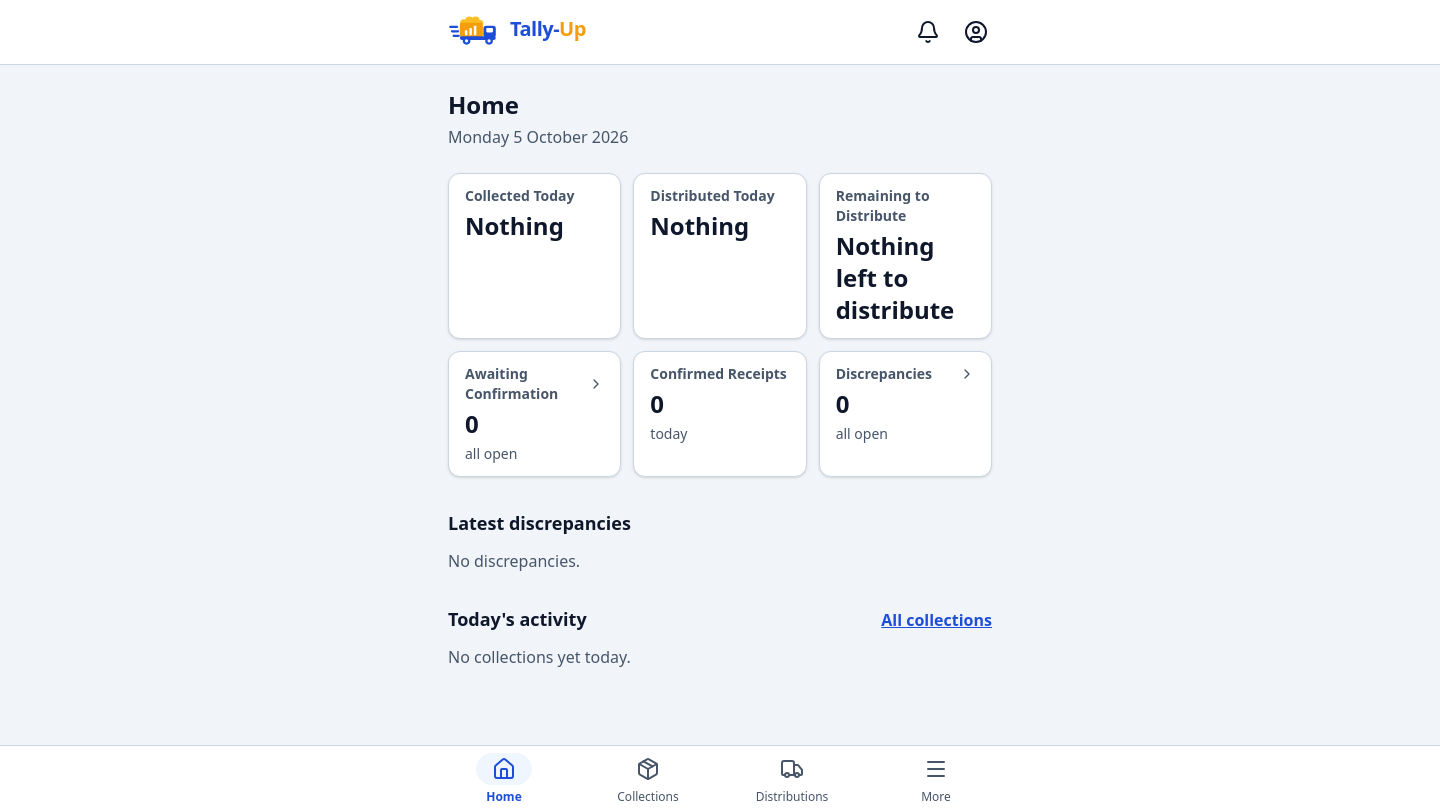
it: Admin portal (Q-47) › has the bell and an account menu with Profile / My Account and Sign Out
The width and height of the screenshot is (1440, 810).
Click the button named "Account": (976, 32) 952,8 -> 1000,56
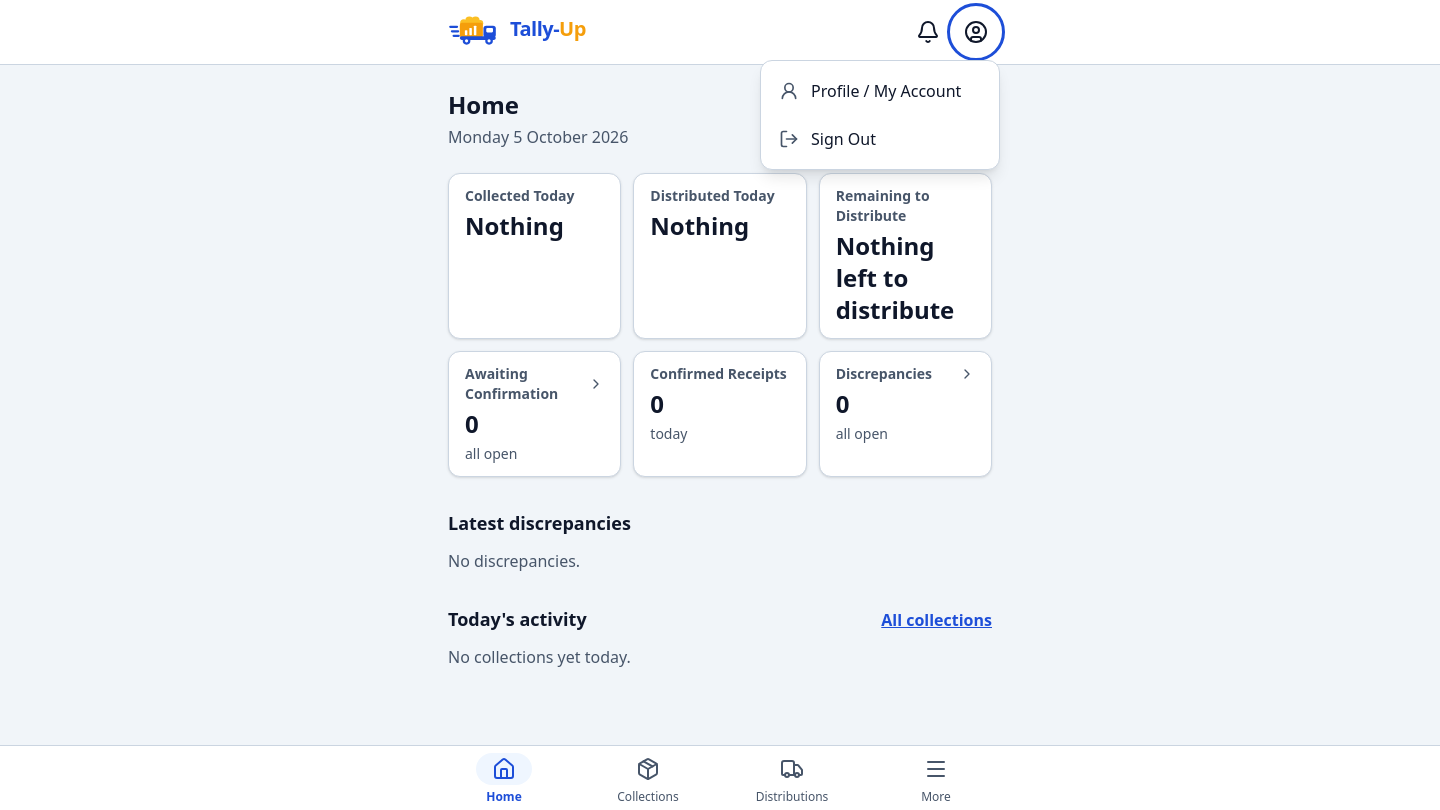
Check: the button named "Account" is expanded, box 952,8 -> 1000,56
Click the button "Sign Out": (880, 139) 767,115 -> 993,163
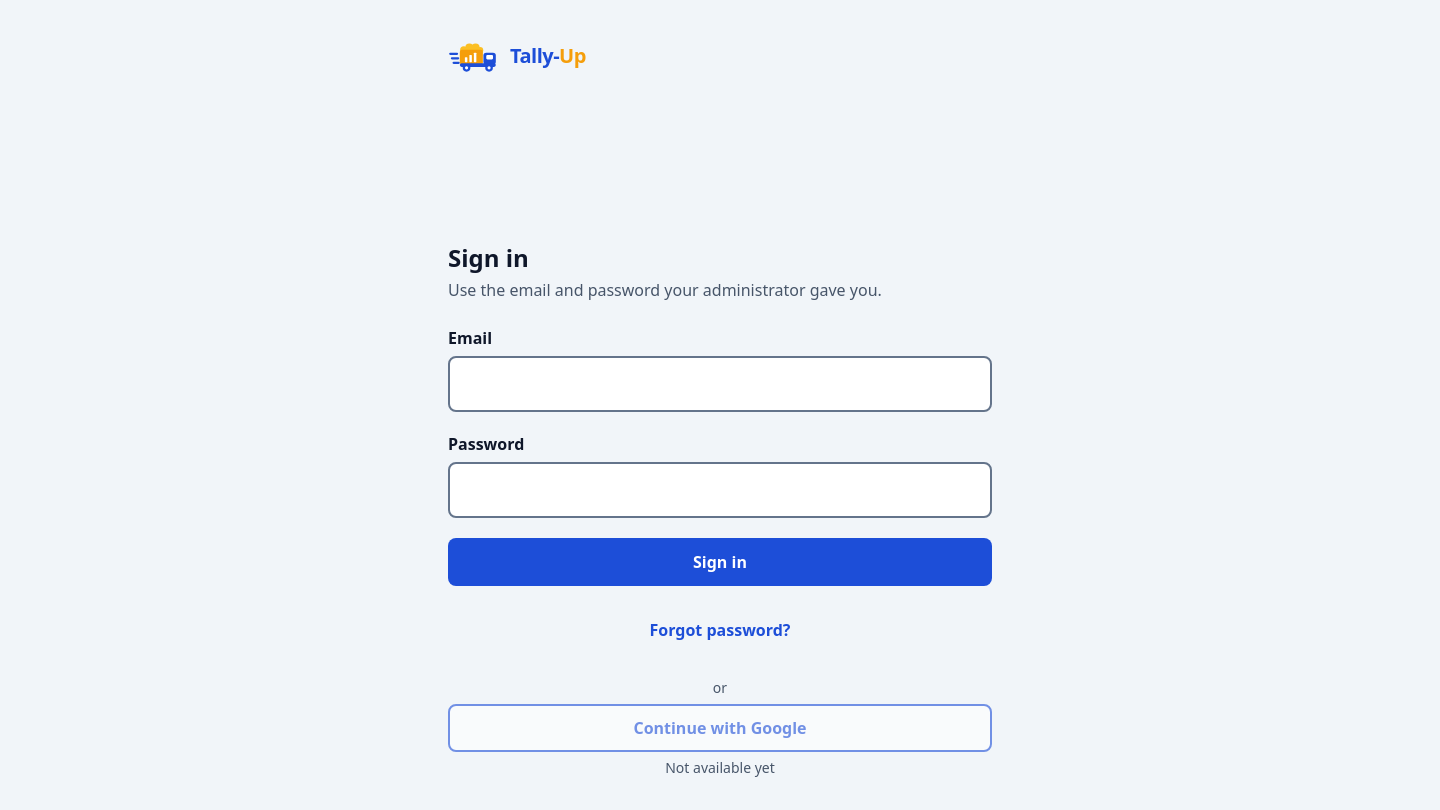
Check: the heading "Sign in" is shown, box 448,241 -> 529,274
